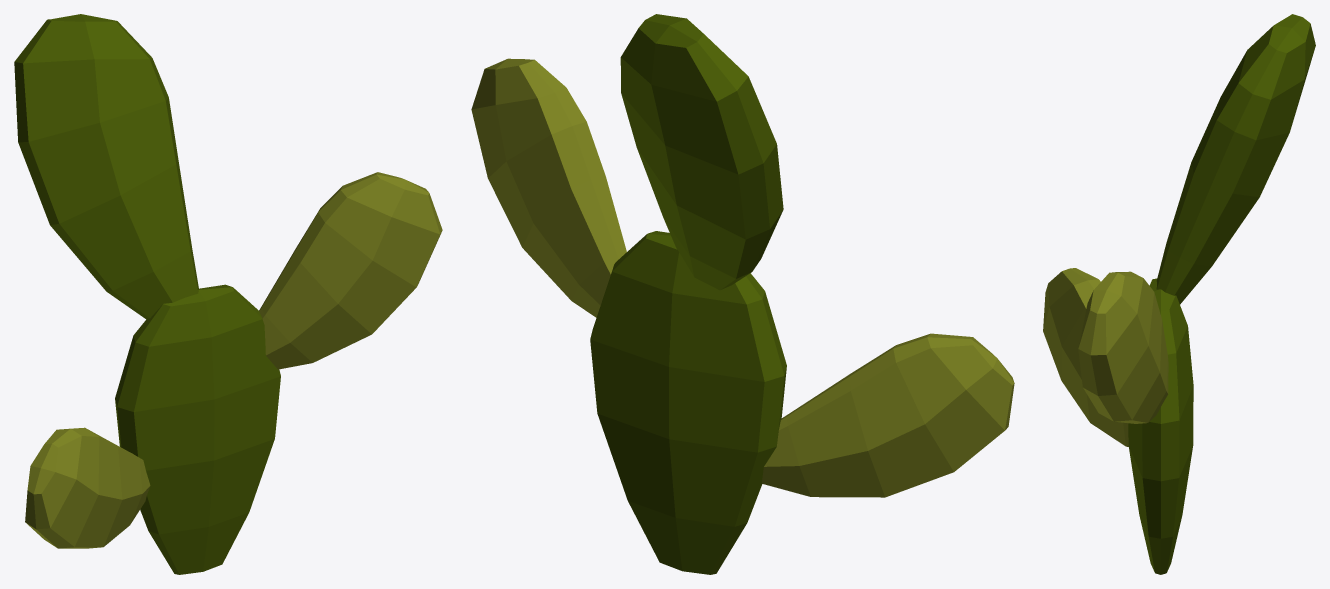
Rendered from Cactus_27_A.fbx.
3 views of the same model, side by side, from view 1: azimuth 30°, elevation 25°; view 2: azimuth 150°, elevation 25°; view 3: azimuth 270°, elevation 25° (orthographic). The views are drawn at different scales.
Visible parts, largest first — view 1: Cactus_27_A; view 2: Cactus_27_A; view 3: Cactus_27_A.
Part boxes in pixels (bbox=[...]): Cactus_27_A: bbox=[14, 14, 442, 574]; Cactus_27_A: bbox=[471, 14, 1014, 574]; Cactus_27_A: bbox=[1043, 14, 1315, 574].
Size of the model in its own units: 166 by 191 by 92.07.
